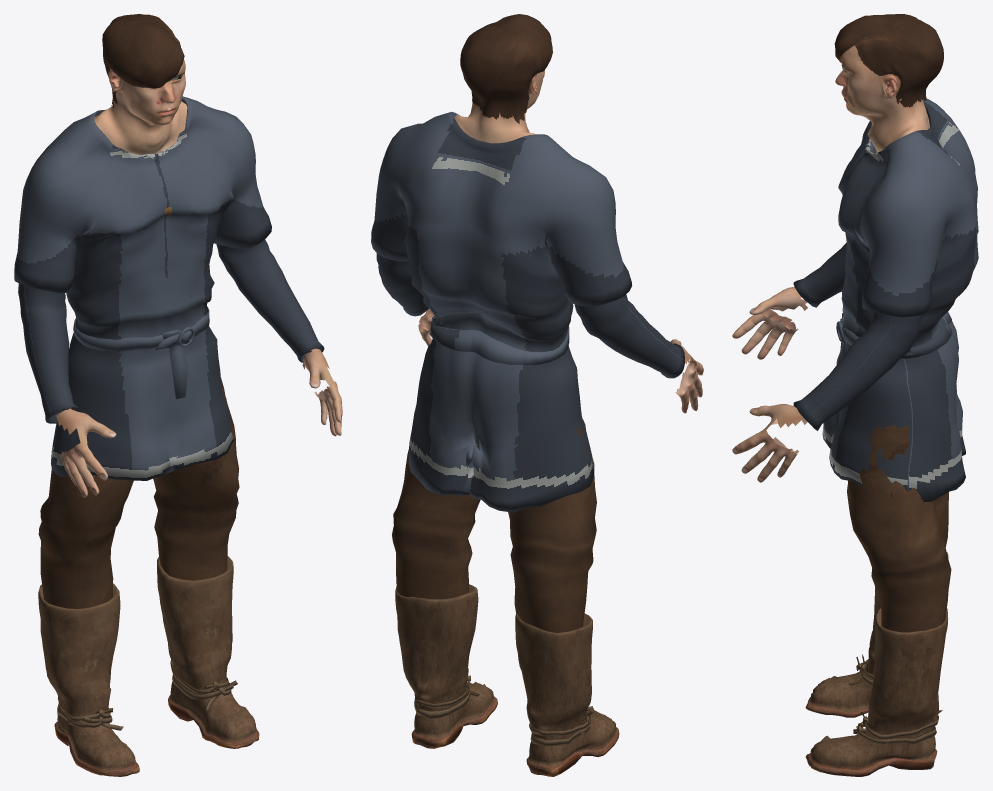
The model's file is kest-travel-coat.glb.
3 renders of one model, left to right at view 1: azimuth 30°, elevation 25°; view 2: azimuth 150°, elevation 25°; view 3: azimuth 270°, elevation 25°, orthographic.
Parts seen in each view (by area): view 1: kest-travel-coat runtime mesh; view 2: kest-travel-coat runtime mesh; view 3: kest-travel-coat runtime mesh.
Boxes of the visible parts, x1,y1,x2,y2 form: kest-travel-coat runtime mesh: (14, 14, 342, 776); kest-travel-coat runtime mesh: (371, 14, 703, 776); kest-travel-coat runtime mesh: (732, 14, 978, 776).
Size of the model in its own units: 0.7486 by 1.85 by 0.5749.
8 materials, 7 textured.
